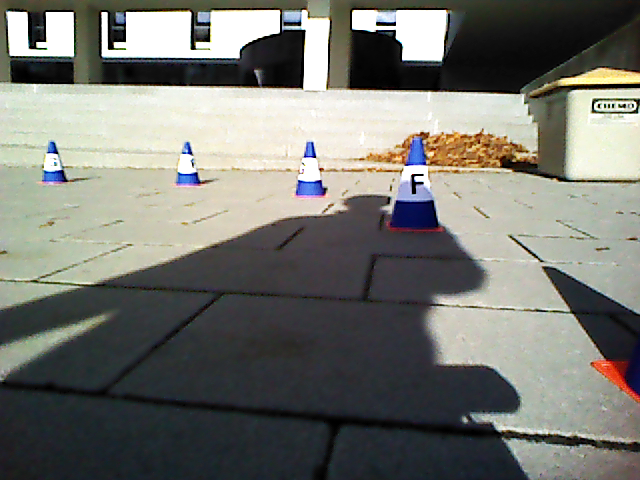bluecone: (391, 139, 438, 227), (297, 142, 325, 194), (175, 143, 202, 184), (42, 142, 68, 182)
